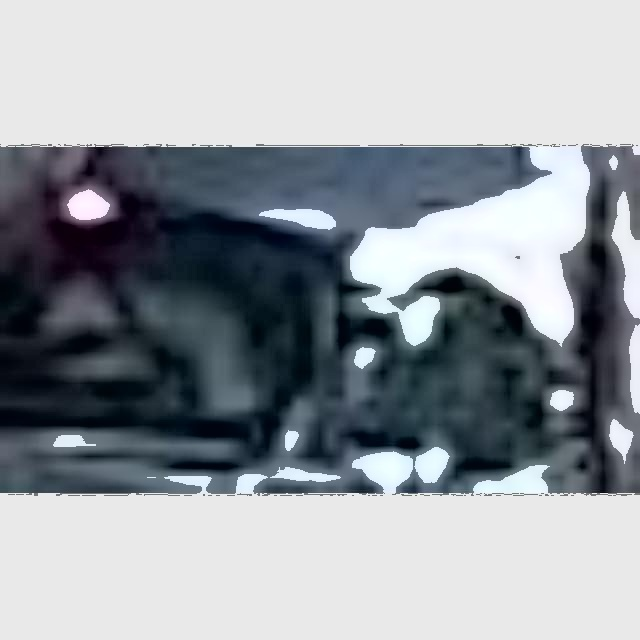pakai: (42, 241, 273, 420)
